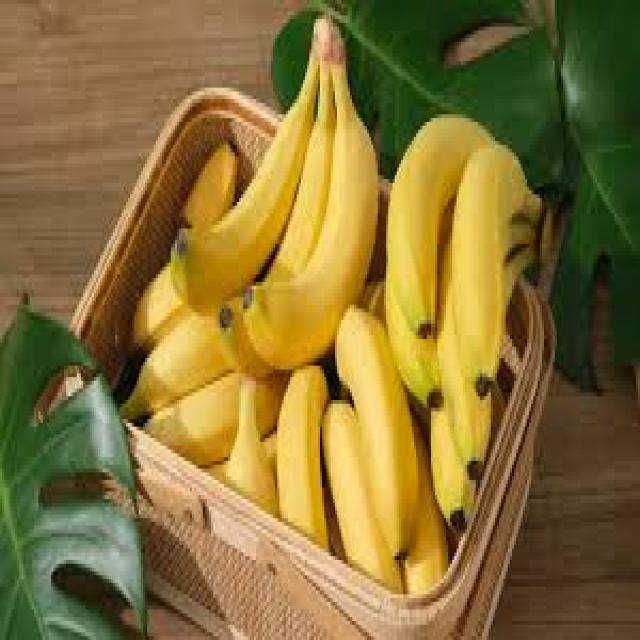Banana: (167, 19, 380, 374), (388, 111, 552, 535), (118, 259, 277, 512)
